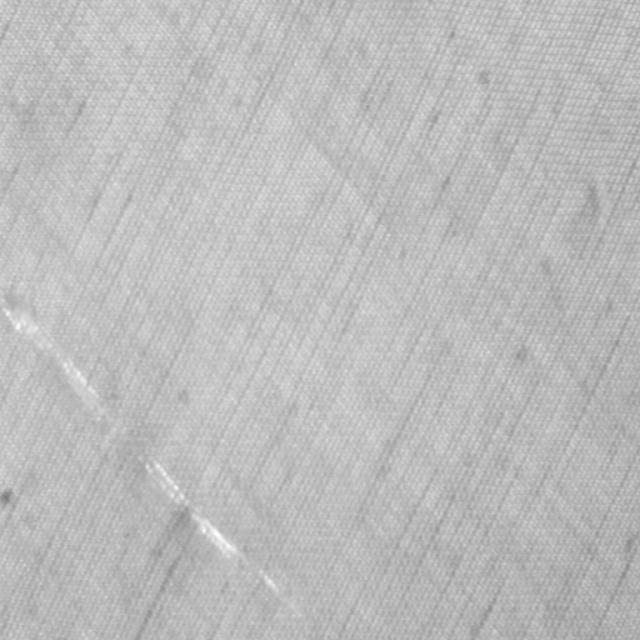thread error: (0, 277, 312, 638)
